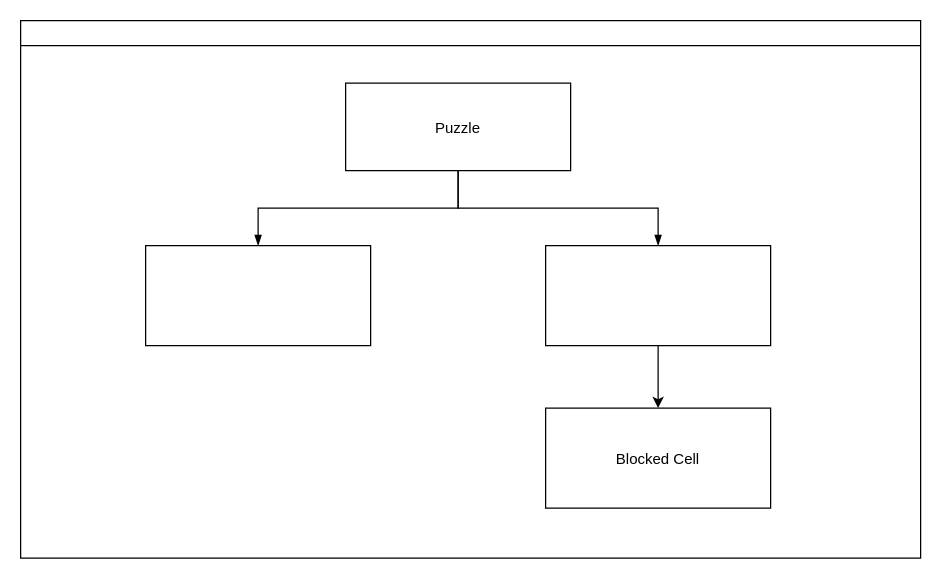
Some shapes in this 941 by 579 pixel diagram are drawn without their labels. Each missing label, with the box of its shape:
Cell: (544, 244, 771, 346)
Pattern: (144, 244, 371, 346)
